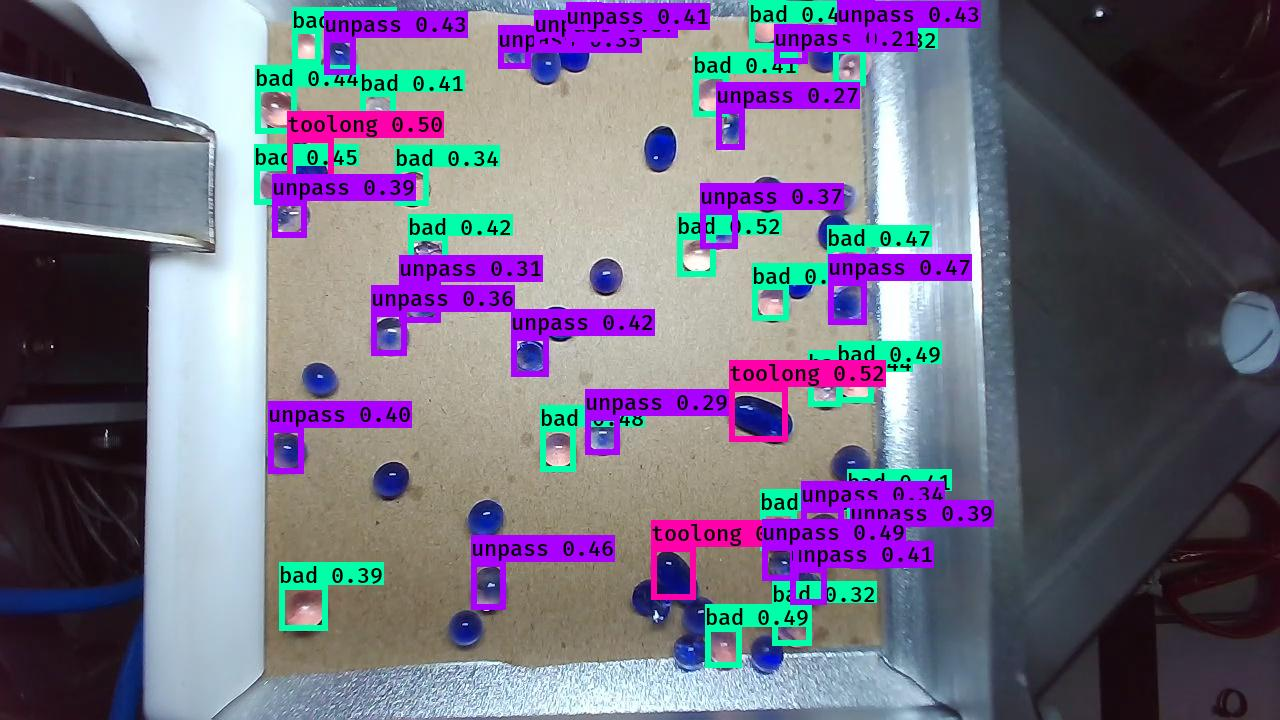bad: (769, 600, 816, 647), (254, 88, 302, 133), (282, 586, 327, 634), (745, 3, 786, 47), (258, 164, 301, 205), (705, 630, 746, 671), (692, 75, 733, 116), (831, 246, 871, 286), (285, 27, 325, 66), (834, 46, 872, 87), (540, 427, 576, 469), (807, 374, 846, 412), (358, 91, 397, 129), (395, 169, 432, 209), (679, 238, 716, 276), (409, 239, 451, 272), (845, 497, 884, 532), (839, 368, 875, 404), (756, 285, 790, 322), (764, 516, 798, 549)
defact: (717, 112, 743, 151)
pass: (640, 124, 680, 173), (465, 498, 508, 542), (628, 577, 669, 623), (830, 441, 870, 488), (370, 460, 410, 504), (299, 362, 342, 401), (818, 212, 855, 256), (750, 629, 788, 671), (587, 258, 625, 299), (449, 607, 484, 651), (749, 173, 787, 213), (540, 302, 578, 340), (532, 12, 570, 50), (780, 263, 817, 302), (682, 594, 718, 632), (670, 635, 706, 672), (556, 35, 590, 73), (810, 36, 842, 74), (529, 50, 560, 86)
toolong: (727, 393, 792, 443), (287, 139, 331, 201), (655, 548, 696, 608)
unpass: (828, 277, 877, 328), (267, 428, 313, 473), (468, 564, 506, 614), (839, 1, 875, 53), (370, 316, 410, 358), (582, 417, 621, 457), (774, 26, 810, 69), (805, 512, 842, 552), (502, 30, 539, 70), (401, 284, 439, 322), (700, 210, 737, 249), (852, 530, 889, 569), (322, 39, 359, 77), (272, 202, 311, 238), (513, 338, 548, 378), (565, 4, 600, 43), (793, 568, 827, 604), (766, 549, 800, 583)
